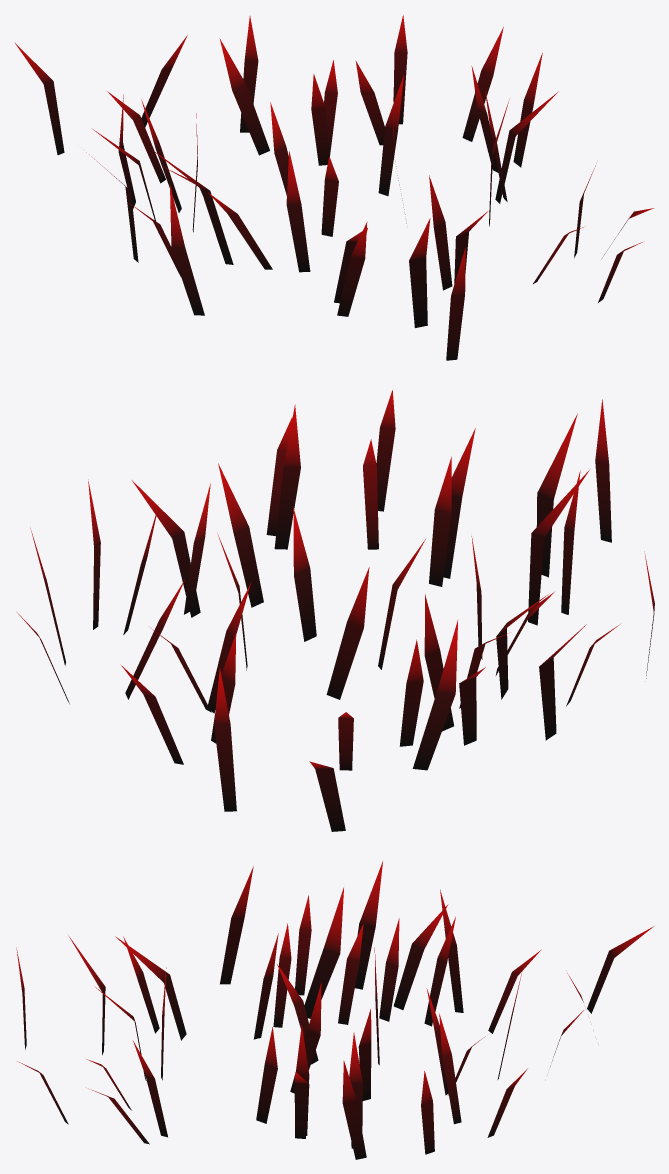
Rendered from PatchGrass02.fbx.
3 renders of one model, top to bottom at view 1: azimuth 30°, elevation 25°; view 2: azimuth 150°, elevation 25°; view 3: azimuth 270°, elevation 25°, orthographic. The views are drawn at different scales.
Visible parts, largest first — view 1: PatchGrass02_LOD0; view 2: PatchGrass02_LOD0; view 3: PatchGrass02_LOD0.
Boxes of the visible parts, x1,y1,x2,y2 form: PatchGrass02_LOD0: [14, 15, 653, 360]; PatchGrass02_LOD0: [17, 390, 654, 831]; PatchGrass02_LOD0: [16, 861, 653, 1159].
Size of the model in its own units: 133 by 36.23 by 180.
